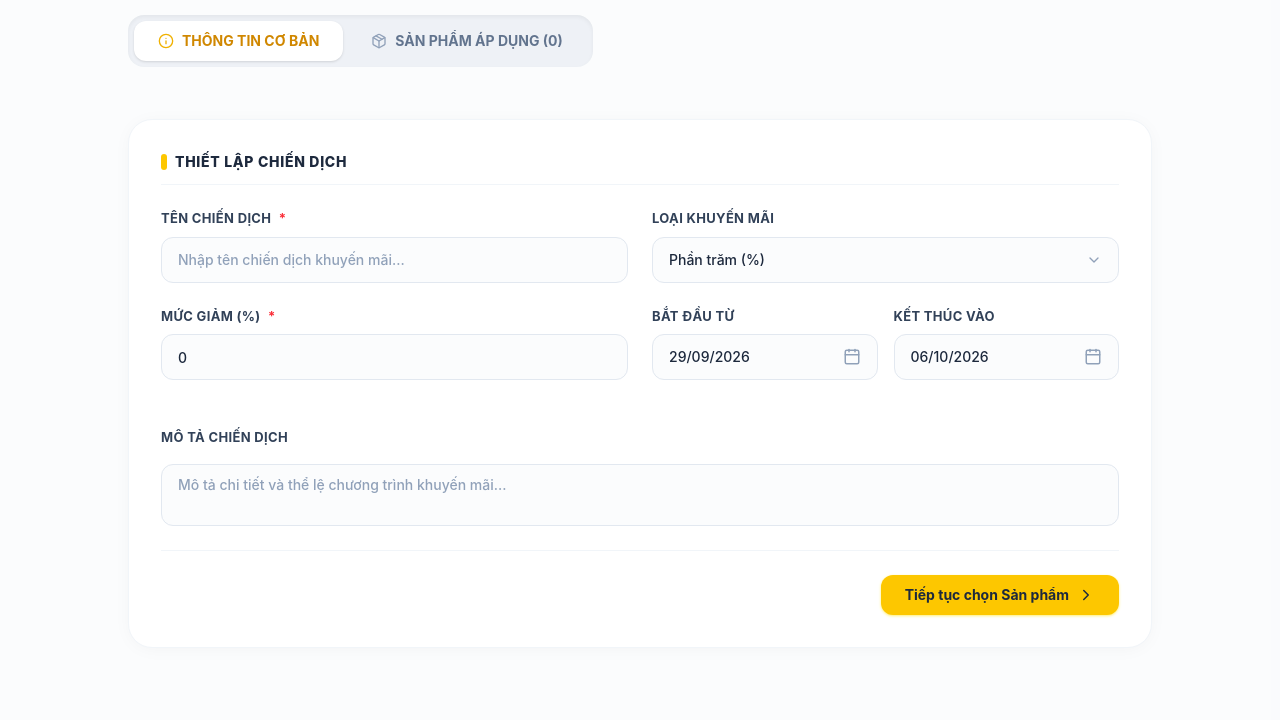
Scenario: Module 07 - PromotionCampaignForm Component › TC05 - Hiển thị toast cảnh báo khi submit với tên trống hoặc mức giảm không hợp lệ
(page scrolled)
# Chuyển sang tab 2 và submit khi chưa nhập tên
Click the button "Tiếp tục chọn Sản phẩm". click: (1000, 594)
box: left=881, top=574, right=1119, bottom=614
(page scrolled)
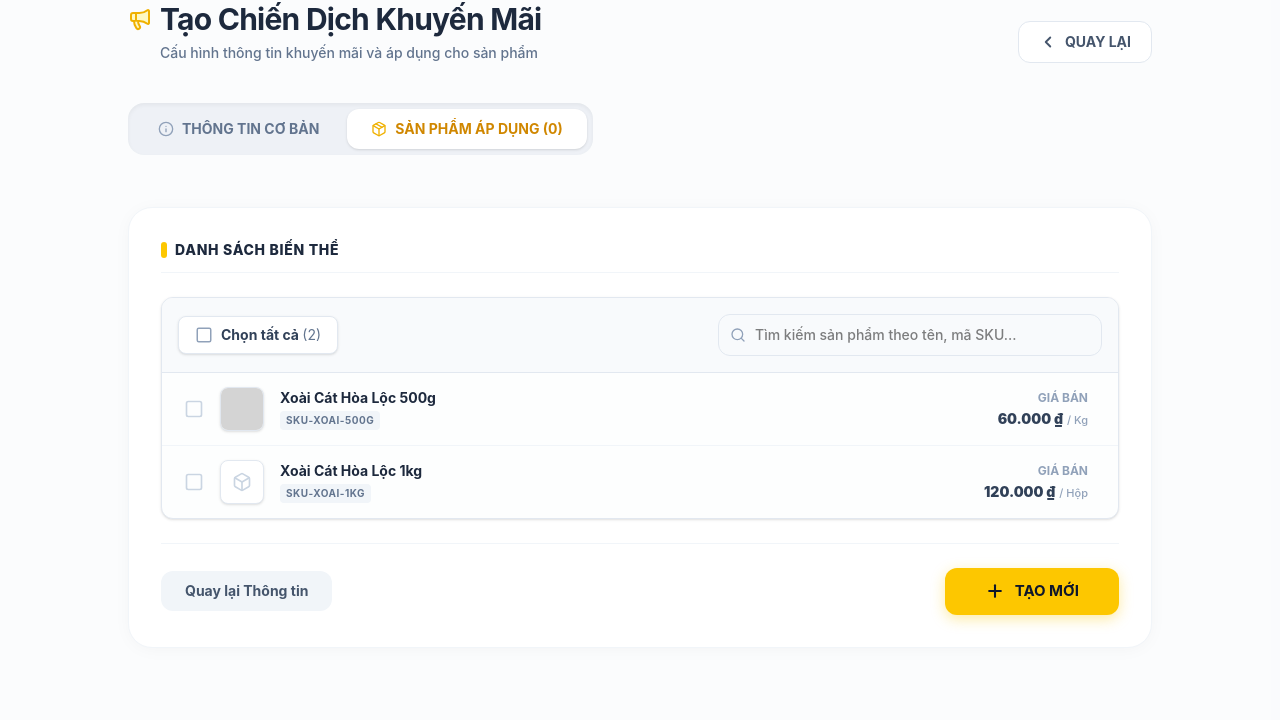
Expected: the button "TẠO MỚI" is shown
Click the button "TẠO MỚI". click: (1032, 591)
box: left=945, top=568, right=1119, bottom=614
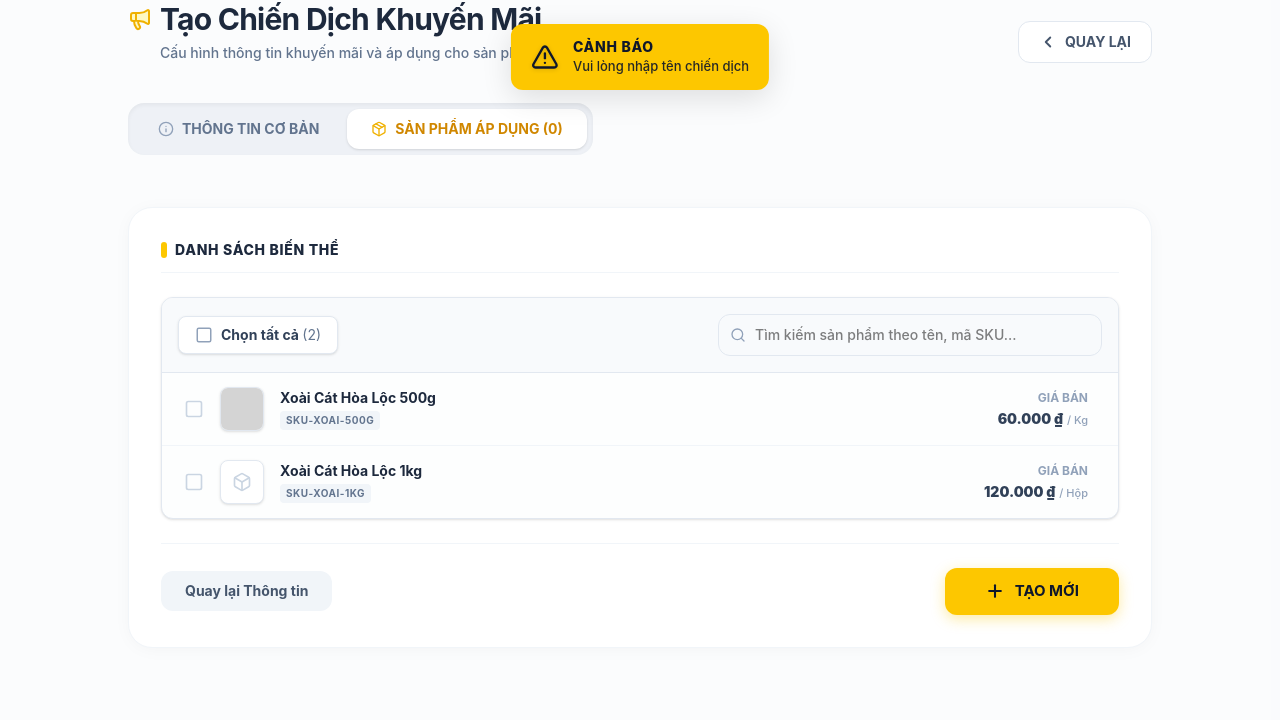
Expected: the text "Vui lòng nhập tên chiến dịch" is shown, left=573, top=58, right=749, bottom=76
